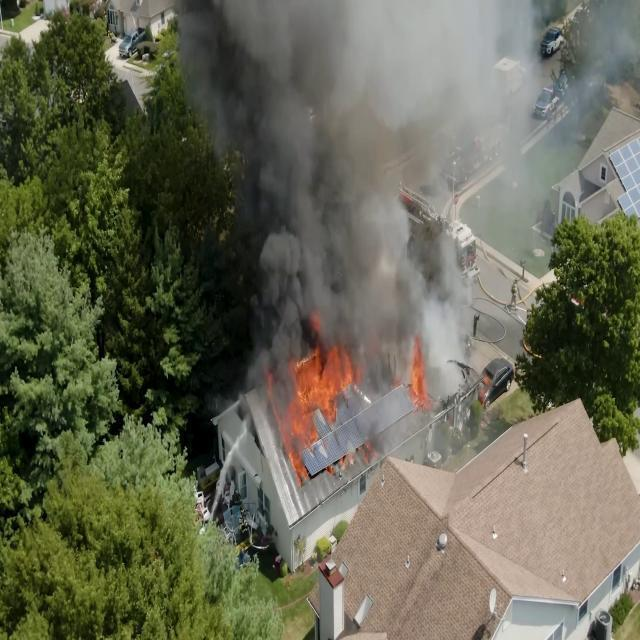Fire: (265, 339, 359, 472), (404, 334, 428, 404)
Smoke: (288, 146, 388, 317)
